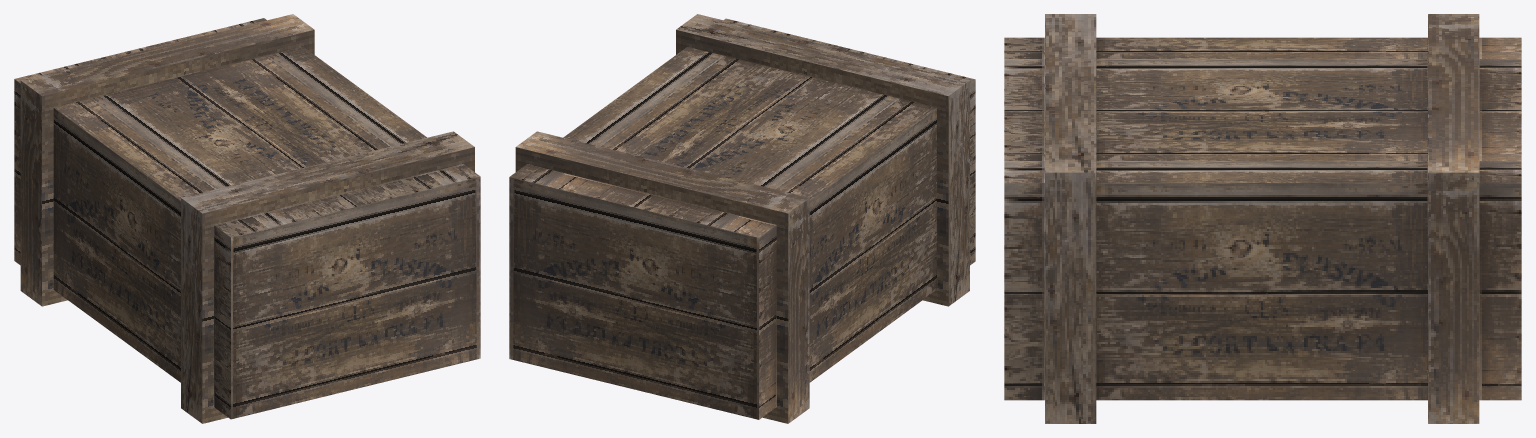
3 renders of one model, left to right at view 1: azimuth 30°, elevation 25°; view 2: azimuth 150°, elevation 25°; view 3: azimuth 270°, elevation 25°, orthographic. The views are drawn at different scales.
Parts seen in each view (by area): view 1: Box_Wood_03; view 2: Box_Wood_03; view 3: Box_Wood_03.
Part boxes in pixels (bbox=[...]): Box_Wood_03: bbox=[14, 14, 480, 423]; Box_Wood_03: bbox=[509, 14, 975, 423]; Box_Wood_03: bbox=[1004, 14, 1521, 423].
Bounding box in the file's own units: 0.4575 × 0.3374 × 0.6298.
Materials: 1 (1 with a texture image).
